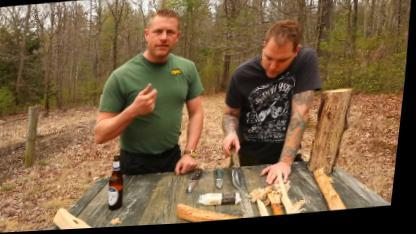knife: (224, 138, 256, 194)
